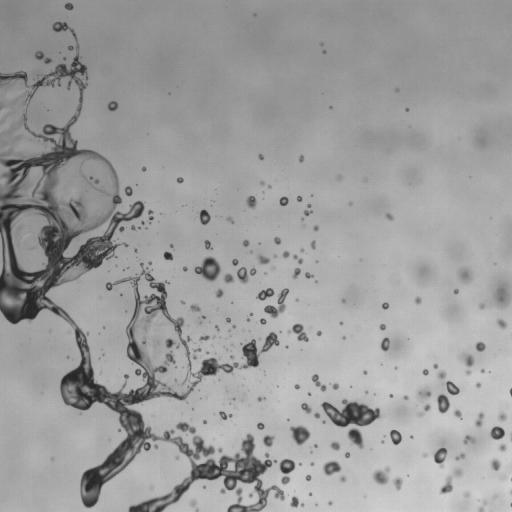droplet: (320, 398, 384, 449), (193, 256, 221, 282), (478, 288, 509, 309), (414, 385, 433, 417), (286, 323, 309, 342), (279, 458, 295, 485), (289, 425, 310, 445), (457, 351, 474, 375), (236, 266, 257, 284), (372, 466, 391, 485), (431, 447, 447, 468), (322, 460, 341, 476), (436, 393, 450, 413), (456, 267, 472, 284), (255, 288, 274, 300), (197, 209, 210, 225), (489, 426, 505, 439), (389, 429, 402, 445), (290, 495, 304, 507), (246, 194, 257, 209), (262, 434, 274, 447), (379, 337, 390, 351), (392, 476, 403, 490), (474, 412, 484, 427), (256, 254, 270, 264), (496, 318, 507, 329), (301, 402, 312, 413), (58, 10, 69, 21), (1, 90, 12, 101), (121, 195, 132, 206), (117, 202, 128, 213), (302, 250, 313, 261), (465, 260, 476, 271), (219, 263, 230, 274), (129, 264, 140, 275), (283, 277, 294, 288), (121, 282, 132, 293), (483, 289, 494, 300), (266, 295, 277, 306), (37, 308, 48, 319), (497, 308, 508, 319), (378, 310, 389, 321), (183, 311, 194, 322), (265, 320, 276, 331), (88, 347, 99, 358), (68, 358, 79, 369), (470, 370, 481, 381), (134, 376, 145, 387), (106, 382, 117, 393), (141, 415, 152, 426), (300, 417, 311, 428), (165, 419, 176, 430), (482, 419, 493, 430), (152, 425, 163, 436), (468, 425, 479, 436), (195, 426, 206, 437), (341, 437, 352, 448), (252, 448, 263, 459), (330, 450, 341, 461), (443, 452, 454, 463), (496, 452, 507, 463), (93, 454, 104, 465), (179, 455, 190, 466), (269, 463, 280, 474), (312, 464, 323, 475), (180, 466, 191, 477), (163, 482, 174, 493), (226, 492, 237, 503), (189, 499, 199, 511), (162, 251, 175, 260), (188, 303, 201, 312), (462, 435, 475, 444), (107, 101, 118, 111), (223, 273, 234, 283), (474, 341, 485, 351), (330, 440, 340, 451), (292, 267, 301, 279), (279, 196, 289, 206), (204, 239, 213, 250), (215, 288, 224, 298), (453, 409, 462, 419), (454, 452, 465, 460), (51, 56, 60, 65), (46, 62, 55, 71), (6, 65, 15, 74), (26, 75, 35, 84), (0, 121, 9, 130), (287, 196, 296, 205), (297, 201, 306, 210), (308, 230, 317, 239), (275, 244, 284, 253), (201, 249, 210, 258), (255, 263, 264, 272), (228, 265, 237, 274), (470, 269, 479, 278), (453, 279, 462, 288), (45, 288, 54, 297), (19, 317, 28, 326), (219, 321, 228, 330), (338, 325, 347, 334), (205, 326, 214, 335), (190, 332, 199, 341), (120, 336, 129, 345), (200, 340, 209, 349), (469, 348, 478, 357), (256, 352, 265, 361), (238, 355, 247, 364), (192, 361, 201, 370), (470, 363, 479, 372), (428, 368, 437, 377), (92, 374, 101, 383), (407, 389, 416, 398), (428, 396, 437, 405), (91, 400, 100, 409), (129, 402, 138, 411), (357, 424, 366, 433), (118, 430, 127, 439), (303, 438, 312, 447), (158, 439, 167, 448), (105, 444, 114, 453), (315, 460, 324, 469), (375, 462, 384, 471), (386, 472, 395, 481), (173, 476, 182, 485), (194, 477, 203, 486), (385, 479, 394, 488), (502, 479, 511, 488), (100, 482, 109, 491), (154, 488, 163, 497), (180, 491, 189, 500), (131, 496, 140, 505), (124, 186, 132, 196), (329, 382, 339, 390), (64, 2, 73, 10), (385, 213, 394, 221), (273, 236, 281, 245), (498, 443, 506, 452), (0, 122, 6, 133), (505, 288, 511, 299), (505, 302, 511, 313), (505, 407, 511, 418), (319, 505, 330, 511), (381, 302, 389, 310), (313, 411, 321, 419), (305, 272, 314, 279), (226, 216, 234, 223), (242, 239, 249, 247), (282, 250, 289, 258), (414, 296, 421, 304), (257, 422, 265, 429), (0, 89, 5, 100), (0, 162, 5, 173), (0, 176, 5, 187), (259, 318, 266, 325), (379, 323, 386, 330), (344, 451, 351, 458), (339, 475, 346, 482), (65, 63, 72, 70), (85, 66, 92, 73), (0, 67, 7, 74), (0, 107, 7, 114), (16, 107, 23, 114), (14, 113, 21, 120), (68, 125, 75, 132), (2, 165, 9, 172), (118, 190, 125, 197), (240, 199, 247, 206), (245, 206, 252, 213), (140, 210, 147, 217), (131, 217, 138, 224), (304, 244, 311, 251), (126, 245, 133, 252), (113, 247, 120, 254), (263, 251, 270, 258), (214, 255, 221, 262), (268, 257, 275, 264), (196, 259, 203, 266), (291, 260, 298, 267), (262, 263, 269, 270), (187, 266, 194, 273), (122, 270, 129, 277), (119, 271, 126, 278), (216, 272, 223, 279), (297, 272, 304, 279), (153, 276, 160, 283), (163, 284, 170, 291), (273, 288, 280, 295), (283, 296, 290, 303), (54, 299, 61, 306), (192, 310, 199, 317), (170, 312, 177, 319), (263, 312, 270, 319), (276, 312, 283, 319), (380, 330, 387, 337), (387, 341, 394, 348), (255, 342, 262, 349), (216, 358, 223, 365), (460, 362, 467, 369), (216, 368, 223, 375), (127, 369, 134, 376), (205, 373, 212, 380), (325, 384, 332, 391), (122, 387, 129, 394), (446, 393, 453, 400), (159, 394, 166, 401), (346, 395, 353, 402), (337, 403, 344, 410), (416, 403, 423, 410), (317, 407, 324, 414), (446, 407, 453, 414), (112, 411, 119, 418), (319, 411, 326, 418), (179, 415, 186, 422), (325, 418, 332, 425), (292, 420, 299, 427), (498, 421, 505, 428), (347, 422, 354, 429), (305, 424, 312, 431), (260, 428, 267, 435), (286, 430, 293, 437), (384, 436, 391, 443), (288, 437, 295, 444), (497, 437, 504, 444), (202, 440, 209, 447), (171, 444, 178, 451), (227, 450, 234, 457), (179, 452, 186, 459), (258, 455, 265, 462), (302, 460, 309, 467), (485, 463, 492, 470), (498, 464, 505, 471), (461, 468, 468, 475), (76, 470, 83, 477), (287, 470, 294, 477), (331, 471, 338, 478), (257, 473, 264, 480), (200, 477, 207, 484), (438, 479, 445, 486), (450, 479, 457, 486), (373, 481, 380, 488), (277, 482, 284, 489), (260, 483, 267, 490), (158, 489, 165, 496), (268, 489, 275, 496), (142, 494, 149, 501), (284, 496, 291, 503), (299, 154, 304, 163), (310, 240, 315, 249), (506, 319, 511, 328), (86, 506, 95, 511), (291, 506, 300, 511), (325, 506, 334, 511), (335, 174, 342, 180), (176, 177, 183, 183), (232, 258, 238, 265), (182, 265, 188, 272), (294, 383, 300, 390), (305, 474, 311, 481), (225, 316, 230, 324), (259, 180, 265, 186), (296, 195, 302, 201), (313, 225, 319, 231), (316, 330, 322, 336), (422, 369, 428, 375), (475, 382, 481, 388), (174, 454, 180, 460), (463, 491, 469, 497), (0, 108, 4, 117), (0, 311, 4, 320), (258, 153, 263, 160), (169, 243, 174, 250), (422, 452, 429, 457), (270, 265, 275, 271), (453, 288, 458, 294), (433, 363, 438, 369), (403, 395, 409, 400), (122, 507, 129, 511), (162, 507, 169, 511), (187, 507, 194, 511), (141, 166, 146, 171), (307, 326, 312, 331), (230, 342, 235, 347), (229, 355, 234, 360), (480, 368, 485, 373), (63, 8, 68, 13), (50, 18, 55, 23), (59, 18, 64, 23), (73, 28, 78, 33), (59, 29, 64, 34), (52, 30, 57, 35), (71, 41, 76, 46), (321, 44, 326, 49), (30, 50, 35, 55), (43, 52, 48, 57), (39, 58, 44, 63), (59, 59, 64, 64), (37, 75, 42, 80), (18, 77, 23, 82), (27, 87, 32, 92), (82, 88, 87, 93), (81, 99, 86, 104), (113, 108, 118, 113), (107, 109, 112, 114), (76, 116, 81, 121), (75, 144, 80, 149), (3, 145, 8, 150), (88, 145, 93, 150), (99, 150, 104, 155), (261, 151, 266, 156), (105, 155, 110, 160), (294, 155, 299, 160), (303, 155, 308, 160), (111, 162, 116, 167), (115, 170, 120, 175), (176, 172, 181, 177), (259, 175, 264, 180), (264, 179, 269, 184), (130, 184, 135, 189), (262, 184, 267, 189), (246, 191, 251, 196), (281, 191, 286, 196), (254, 195, 259, 200), (138, 196, 143, 201), (286, 201, 291, 206), (283, 204, 288, 209), (196, 207, 201, 212), (206, 208, 211, 213), (389, 210, 394, 215), (223, 212, 228, 217), (231, 215, 236, 220), (195, 216, 200, 221), (383, 217, 388, 222), (225, 220, 230, 225), (117, 221, 122, 226), (143, 221, 148, 226), (206, 221, 211, 226), (308, 225, 313, 230), (317, 226, 322, 231), (114, 227, 119, 232), (275, 232, 280, 237), (110, 235, 115, 240), (245, 235, 250, 240), (279, 236, 284, 241), (238, 238, 243, 243), (270, 240, 275, 245), (314, 241, 319, 246), (200, 242, 205, 247), (238, 242, 243, 247), (246, 244, 251, 249), (166, 247, 171, 252), (159, 249, 164, 254), (277, 251, 282, 256), (296, 253, 301, 258), (287, 254, 292, 259), (159, 255, 164, 260), (101, 257, 106, 262), (165, 258, 170, 263), (142, 262, 147, 267), (235, 263, 240, 268), (296, 263, 301, 268), (97, 264, 102, 269), (90, 266, 95, 271), (137, 267, 142, 272), (289, 269, 294, 274), (150, 271, 155, 276), (130, 272, 135, 277), (79, 274, 84, 279), (117, 274, 122, 279), (232, 274, 237, 279), (313, 274, 318, 279), (308, 277, 313, 282), (71, 279, 76, 284), (124, 280, 129, 285), (227, 281, 232, 286), (498, 283, 503, 288), (451, 284, 456, 289), (211, 292, 216, 297), (417, 292, 422, 297), (219, 295, 224, 300), (410, 295, 415, 300), (164, 297, 169, 302), (420, 297, 425, 302), (478, 298, 483, 303), (190, 299, 195, 304), (410, 299, 415, 304), (130, 300, 135, 305), (185, 302, 190, 307), (197, 302, 202, 307), (417, 302, 422, 307), (273, 303, 278, 308), (473, 303, 478, 308), (62, 305, 67, 310), (377, 305, 382, 310), (129, 307, 134, 312), (283, 307, 288, 312), (482, 307, 487, 312), (50, 311, 55, 316), (128, 311, 133, 316), (68, 312, 73, 317), (255, 315, 260, 320), (502, 316, 507, 321), (202, 318, 207, 323), (230, 318, 235, 323), (381, 319, 386, 324), (226, 322, 231, 327), (384, 322, 389, 327), (494, 323, 499, 328), (235, 324, 240, 329), (287, 324, 292, 329), (374, 324, 379, 329), (180, 325, 185, 330), (301, 327, 306, 332), (81, 328, 86, 333), (312, 328, 317, 333), (273, 329, 278, 334), (70, 331, 75, 336), (263, 331, 268, 336), (293, 332, 298, 337), (305, 332, 310, 337), (181, 334, 186, 339), (276, 335, 281, 340), (227, 337, 232, 342), (246, 337, 251, 342), (377, 337, 382, 342), (475, 337, 480, 342), (479, 337, 484, 342), (206, 338, 211, 343), (299, 339, 304, 344), (482, 339, 487, 344), (86, 340, 91, 345), (186, 341, 191, 346), (225, 343, 230, 348), (271, 343, 276, 348), (484, 343, 489, 348), (73, 344, 78, 349), (376, 344, 381, 349), (88, 346, 93, 351), (384, 349, 389, 354), (204, 354, 209, 359), (432, 358, 437, 363), (90, 362, 95, 367), (134, 363, 139, 368), (248, 365, 253, 370), (468, 365, 473, 370), (232, 367, 237, 372), (417, 369, 422, 374), (309, 370, 314, 375), (225, 372, 230, 377), (317, 376, 322, 381), (443, 376, 448, 381), (120, 377, 125, 382), (292, 379, 297, 384), (471, 380, 476, 385), (454, 381, 459, 386), (479, 384, 484, 389), (192, 385, 197, 390), (315, 385, 320, 390), (337, 385, 342, 390), (189, 390, 194, 395), (367, 391, 372, 396), (258, 392, 263, 397), (57, 395, 62, 400), (185, 395, 190, 400), (170, 396, 175, 401), (356, 399, 361, 404), (306, 401, 311, 406), (370, 405, 375, 410), (74, 407, 79, 412), (84, 408, 89, 413), (459, 408, 464, 413), (81, 409, 86, 414), (300, 409, 305, 414), (310, 409, 315, 414), (378, 409, 383, 414), (224, 410, 229, 415), (424, 410, 429, 415), (460, 412, 465, 417), (215, 413, 220, 418), (473, 414, 478, 419), (418, 416, 423, 421), (454, 416, 459, 421), (316, 417, 321, 422), (373, 418, 378, 423), (470, 420, 475, 425), (187, 421, 192, 426), (116, 422, 121, 427), (165, 426, 170, 431), (194, 430, 199, 435), (468, 431, 473, 436), (385, 433, 390, 438), (400, 433, 405, 438), (241, 434, 246, 439), (459, 435, 464, 440), (145, 437, 150, 442), (271, 438, 276, 443), (154, 439, 159, 444), (326, 440, 331, 445), (466, 440, 471, 445), (397, 441, 402, 446), (149, 445, 154, 450), (213, 445, 218, 450), (139, 446, 144, 451), (433, 446, 438, 451), (455, 450, 460, 455), (134, 453, 139, 458), (464, 453, 469, 458), (286, 454, 291, 459), (268, 455, 273, 460), (429, 456, 434, 461), (458, 457, 463, 462), (276, 458, 281, 463), (442, 459, 447, 464), (128, 461, 133, 466), (293, 462, 298, 467), (434, 462, 439, 467), (265, 466, 270, 471), (120, 469, 125, 474), (280, 472, 285, 477), (114, 473, 119, 478), (345, 475, 350, 480), (343, 480, 348, 485), (340, 481, 345, 486), (400, 482, 405, 487), (504, 487, 509, 492), (224, 488, 229, 493), (230, 488, 235, 493), (444, 491, 449, 496), (504, 491, 509, 496), (275, 497, 280, 502), (486, 497, 491, 502), (297, 498, 302, 503), (78, 501, 83, 506), (476, 501, 481, 506), (93, 502, 98, 507), (195, 502, 200, 507), (483, 505, 488, 510), (63, 0, 70, 3), (66, 0, 73, 3), (0, 146, 3, 153), (348, 201, 352, 206), (141, 220, 145, 225), (300, 247, 304, 252), (341, 298, 345, 303), (180, 300, 185, 304), (363, 370, 367, 375), (307, 391, 311, 396), (203, 419, 207, 424), (149, 485, 153, 490), (492, 494, 497, 498), (328, 500, 332, 505), (222, 507, 227, 511), (319, 42, 323, 46), (322, 50, 326, 54), (395, 88, 399, 92), (405, 107, 409, 111), (267, 184, 271, 188), (300, 217, 304, 221), (273, 254, 277, 258), (147, 261, 151, 265), (314, 280, 318, 284), (339, 321, 343, 325), (212, 335, 216, 339), (394, 366, 398, 370), (364, 390, 368, 394), (389, 393, 393, 397), (322, 419, 326, 423), (409, 435, 413, 439), (298, 462, 302, 466), (310, 462, 314, 466), (202, 485, 206, 489), (308, 492, 312, 496), (507, 507, 511, 511), (134, 248, 137, 253), (383, 433, 386, 438), (508, 472, 511, 477), (198, 508, 203, 511), (260, 508, 265, 511), (473, 508, 478, 511), (62, 57, 66, 60), (329, 105, 332, 109), (249, 250, 253, 253), (247, 329, 251, 332), (342, 336, 346, 339), (285, 345, 289, 348), (66, 355, 69, 359), (99, 371, 102, 375), (286, 418, 290, 421), (380, 440, 384, 443), (0, 243, 2, 248), (0, 255, 2, 260), (0, 268, 2, 273), (253, 13, 256, 16), (310, 194, 313, 197), (315, 260, 318, 263), (264, 272, 267, 275), (295, 298, 298, 301), (102, 326, 105, 329), (279, 330, 282, 333), (219, 335, 222, 338), (258, 337, 261, 340), (211, 344, 214, 347), (102, 353, 105, 356), (488, 370, 491, 373), (349, 385, 352, 388), (310, 450, 313, 453), (50, 457, 53, 460), (315, 503, 318, 506), (61, 3, 64, 6), (72, 4, 75, 7), (66, 22, 69, 25), (66, 28, 69, 31), (75, 33, 78, 36), (77, 40, 80, 43), (78, 44, 81, 47), (64, 46, 67, 49), (325, 49, 328, 52), (322, 53, 325, 56), (45, 71, 48, 74), (87, 75, 90, 78), (86, 79, 89, 82), (22, 97, 25, 100), (112, 98, 115, 101), (3, 101, 6, 104), (328, 102, 331, 105), (405, 104, 408, 107), (80, 107, 83, 110), (328, 108, 331, 111), (408, 108, 411, 111), (405, 111, 408, 114), (19, 112, 22, 115), (259, 159, 262, 162), (139, 164, 142, 167), (145, 167, 148, 170), (139, 169, 142, 172), (143, 170, 146, 173), (182, 176, 185, 179), (173, 178, 176, 181), (179, 182, 182, 185), (269, 182, 272, 185), (271, 185, 274, 188), (250, 192, 253, 195), (299, 193, 302, 196), (285, 194, 288, 197), (312, 194, 315, 197), (277, 196, 280, 199), (276, 200, 279, 203), (150, 207, 153, 210), (307, 207, 310, 210), (160, 209, 163, 212), (308, 212, 311, 215), (302, 214, 305, 217), (297, 218, 300, 221), (150, 219, 153, 222), (139, 223, 142, 226), (231, 223, 234, 226), (130, 229, 133, 232), (144, 229, 147, 232), (208, 238, 211, 241), (257, 238, 260, 241), (125, 240, 128, 243), (260, 242, 263, 245), (209, 243, 212, 246), (172, 244, 175, 247), (135, 245, 138, 248), (124, 246, 127, 249), (131, 248, 134, 251), (136, 248, 139, 251), (315, 256, 318, 259), (148, 258, 151, 261), (139, 259, 142, 262), (151, 261, 154, 264), (229, 261, 232, 264), (316, 262, 319, 265), (147, 264, 150, 267), (122, 265, 125, 268), (180, 269, 183, 272), (309, 271, 312, 274), (253, 273, 256, 276), (166, 278, 169, 281), (105, 279, 108, 282), (110, 280, 113, 283), (121, 281, 124, 284), (313, 282, 316, 285), (269, 285, 272, 288), (285, 285, 288, 288), (103, 287, 106, 290), (263, 287, 266, 290), (258, 288, 261, 291), (106, 289, 109, 292), (450, 289, 453, 292), (457, 290, 460, 293), (116, 293, 119, 296), (454, 293, 457, 296), (343, 296, 346, 299), (256, 297, 259, 300), (182, 298, 185, 301), (232, 299, 235, 302), (338, 299, 341, 302), (383, 299, 386, 302), (380, 300, 383, 303), (387, 301, 390, 304), (180, 303, 183, 306), (229, 303, 232, 306), (384, 308, 387, 311), (248, 309, 251, 312), (202, 312, 205, 315), (224, 314, 227, 317), (227, 314, 230, 317), (243, 316, 246, 319), (339, 318, 342, 321), (223, 319, 226, 322), (243, 319, 246, 322), (126, 320, 129, 323), (257, 320, 260, 323), (336, 322, 339, 325), (103, 323, 106, 326), (261, 323, 264, 326), (211, 324, 214, 327), (217, 325, 220, 328), (99, 326, 102, 329), (104, 327, 107, 330), (213, 327, 216, 330), (230, 327, 233, 330), (244, 327, 247, 330), (320, 329, 323, 332), (320, 332, 323, 335), (342, 332, 345, 335), (215, 334, 218, 337), (339, 334, 342, 337), (189, 335, 192, 338), (316, 335, 319, 338), (345, 335, 348, 338), (388, 337, 391, 340), (340, 338, 343, 341), (344, 338, 347, 341), (287, 346, 290, 349), (222, 347, 225, 350), (283, 347, 286, 350), (100, 350, 103, 353), (229, 351, 232, 354), (100, 355, 103, 358), (63, 356, 66, 359), (129, 359, 132, 362), (391, 364, 394, 367), (396, 364, 399, 367), (379, 365, 382, 368), (364, 367, 367, 370), (391, 367, 394, 370), (396, 367, 399, 370), (484, 369, 487, 372), (490, 369, 493, 372), (360, 370, 363, 373), (366, 370, 369, 373), (264, 371, 267, 374), (480, 372, 483, 375), (133, 373, 136, 376), (422, 374, 425, 377), (276, 381, 279, 384), (330, 381, 333, 384), (349, 382, 352, 385), (298, 383, 301, 386), (273, 384, 276, 387), (346, 384, 349, 387), (278, 385, 281, 388), (507, 386, 510, 389), (292, 387, 295, 390), (297, 387, 300, 390), (348, 387, 351, 390), (363, 387, 366, 390), (389, 390, 392, 393), (375, 392, 378, 395), (403, 392, 406, 395), (507, 392, 510, 395), (392, 393, 395, 396), (231, 394, 234, 397), (264, 394, 267, 397), (386, 394, 389, 397), (201, 395, 204, 398), (389, 397, 392, 400), (234, 398, 237, 401), (226, 399, 229, 402), (230, 399, 233, 402), (255, 399, 258, 402), (260, 399, 263, 402), (403, 399, 406, 402), (300, 400, 303, 403), (191, 404, 194, 407), (188, 407, 191, 410), (220, 408, 223, 411), (287, 415, 290, 418), (202, 416, 205, 419), (226, 416, 229, 419), (283, 418, 286, 421), (257, 419, 260, 422), (199, 420, 202, 423), (206, 420, 209, 423), (261, 420, 264, 423), (203, 423, 206, 426), (396, 428, 399, 431), (412, 434, 415, 437), (380, 436, 383, 439), (315, 441, 318, 444), (460, 441, 463, 444), (380, 443, 383, 446), (311, 445, 314, 448), (349, 452, 352, 455), (174, 459, 177, 462), (307, 461, 310, 464), (303, 473, 306, 476), (408, 475, 411, 478), (310, 476, 313, 479), (507, 476, 510, 479), (303, 478, 306, 481), (202, 488, 205, 491), (311, 491, 314, 494), (219, 492, 222, 495), (305, 492, 308, 495), (308, 495, 311, 498), (325, 499, 328, 502), (317, 502, 320, 505), (331, 502, 334, 505), (507, 502, 510, 505), (303, 503, 306, 506), (311, 503, 314, 506), (327, 504, 330, 507), (144, 227, 148, 229), (168, 92, 170, 95), (262, 191, 264, 194), (211, 200, 214, 202), (494, 262, 496, 265), (115, 264, 117, 267), (120, 293, 122, 296), (230, 301, 233, 303), (125, 310, 127, 313), (276, 385, 279, 387), (151, 414, 153, 417), (210, 204, 212, 206), (258, 242, 260, 244), (98, 357, 100, 359), (380, 363, 382, 365), (243, 377, 245, 379), (218, 379, 220, 381), (373, 393, 375, 395), (192, 408, 194, 410), (407, 474, 409, 476), (0, 237, 1, 240), (47, 109, 48, 111), (300, 349, 302, 350), (200, 397, 201, 399)
ligament: (264, 288, 289, 319), (439, 467, 463, 494), (437, 370, 461, 395), (311, 374, 326, 392), (0, 108, 15, 123), (35, 51, 52, 64), (497, 403, 508, 421), (224, 324, 236, 339), (477, 498, 488, 511), (198, 333, 210, 344), (292, 254, 303, 265), (196, 315, 206, 326), (147, 209, 154, 224), (246, 312, 253, 322), (214, 324, 220, 333), (222, 345, 231, 351), (131, 225, 140, 230), (257, 396, 266, 401), (508, 431, 511, 442), (309, 444, 317, 448), (122, 267, 129, 271), (158, 212, 164, 215), (509, 387, 511, 396), (509, 488, 511, 496), (477, 499, 479, 503), (510, 502, 511, 507), (510, 477, 511, 481)
